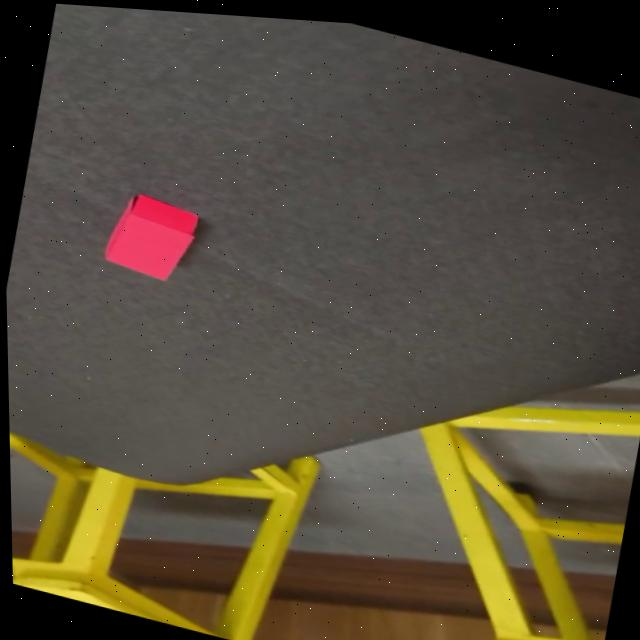red block: (100, 187, 204, 290)
